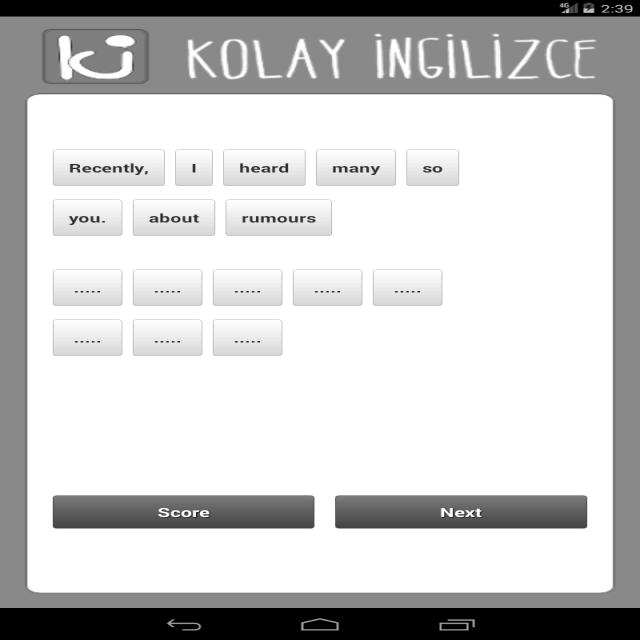Button: (332, 494, 591, 530), (54, 496, 315, 528), (40, 27, 150, 85)
TextView: (178, 36, 606, 82), (52, 151, 165, 187), (219, 214, 324, 227), (154, 206, 206, 228), (304, 278, 355, 300), (232, 161, 295, 175), (60, 210, 110, 227), (147, 336, 203, 350), (329, 162, 382, 176), (171, 156, 204, 178), (225, 283, 265, 301), (224, 336, 274, 349), (388, 286, 433, 300), (146, 282, 190, 296), (416, 160, 446, 178), (73, 335, 117, 347), (70, 285, 104, 297)
